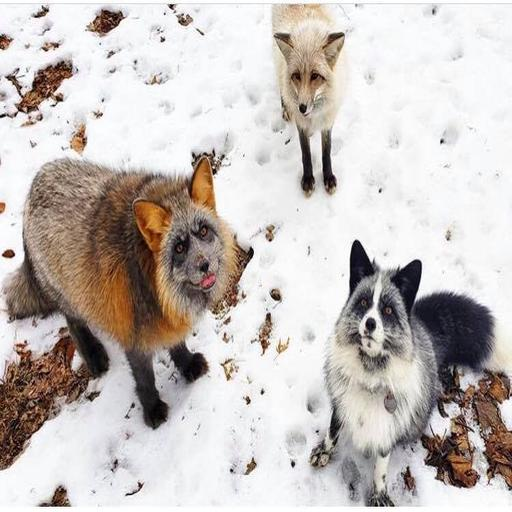Fox: (0, 145, 255, 436), (317, 231, 502, 512), (251, 0, 360, 205)
